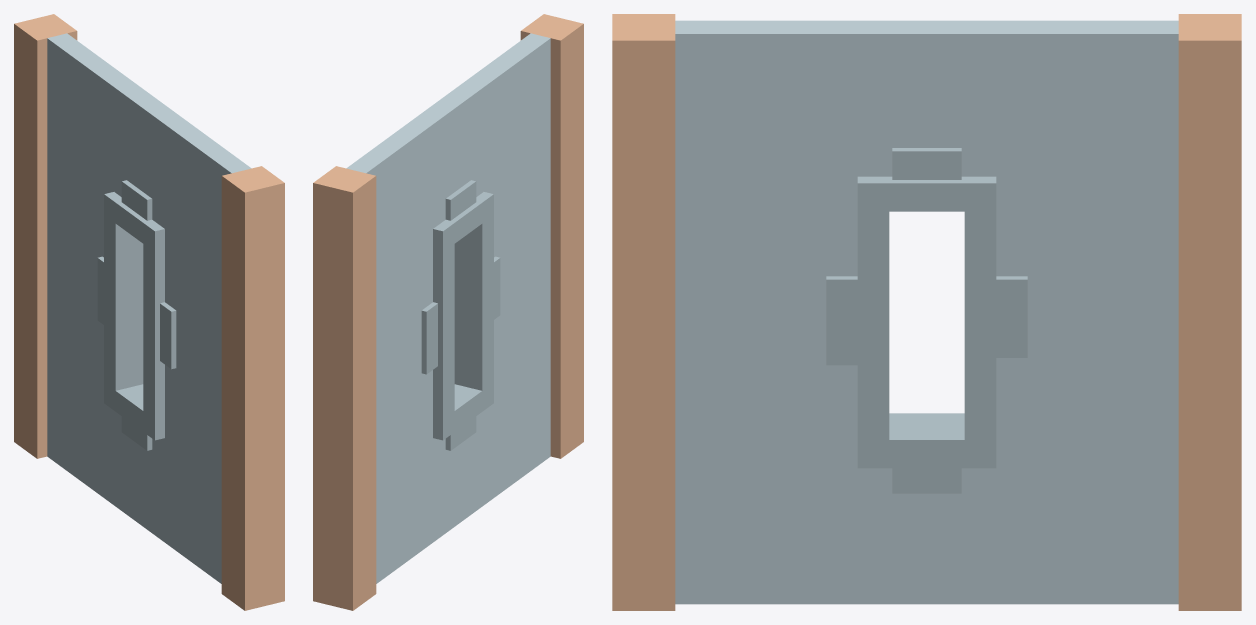
The model's file is wallWindowStone.glb.
3 views of the same model, side by side, from view 1: azimuth 30°, elevation 25°; view 2: azimuth 150°, elevation 25°; view 3: azimuth 270°, elevation 25° (orthographic). The views are drawn at different scales.
Visible parts, largest first — view 1: wallWindowStone; view 2: wallWindowStone; view 3: wallWindowStone.
Boxes of the visible parts, <box> form: wallWindowStone: <box>14,14,284,610</box>; wallWindowStone: <box>313,14,583,610</box>; wallWindowStone: <box>612,14,1241,610</box>.
Bounding box in the file's own units: 0.1 × 1 × 1.
